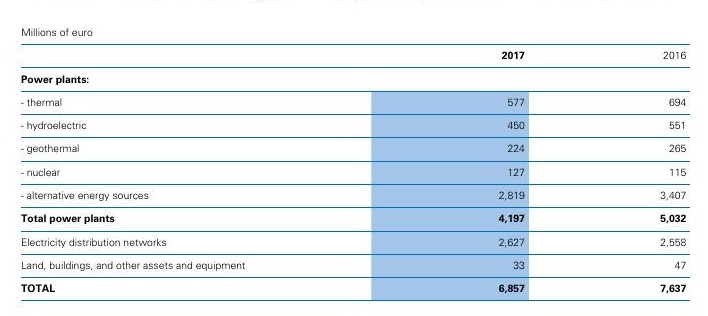table: (0, 0, 708, 316)
